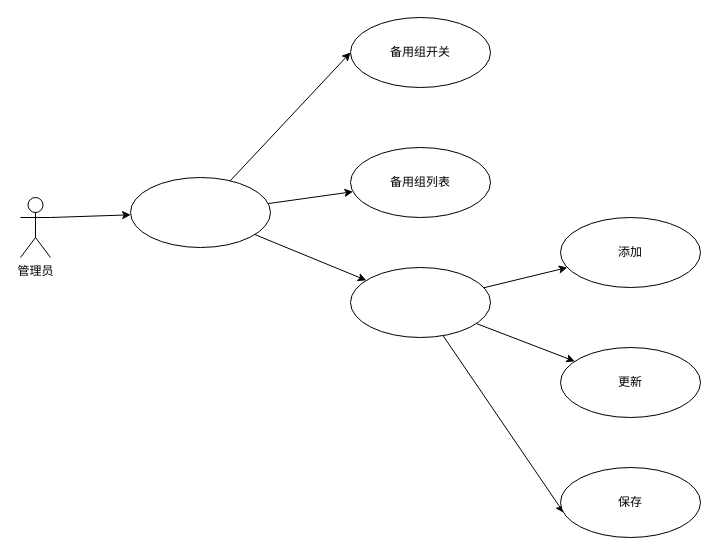
Some shapes in this 718 by 555 pixel diagram are drawn without their labels. Here are the shapes that lost their labels. From the top down, the box of each, then its label:
(130, 176, 270, 248): 备用组设置
(350, 266, 490, 338): 备用组编辑
